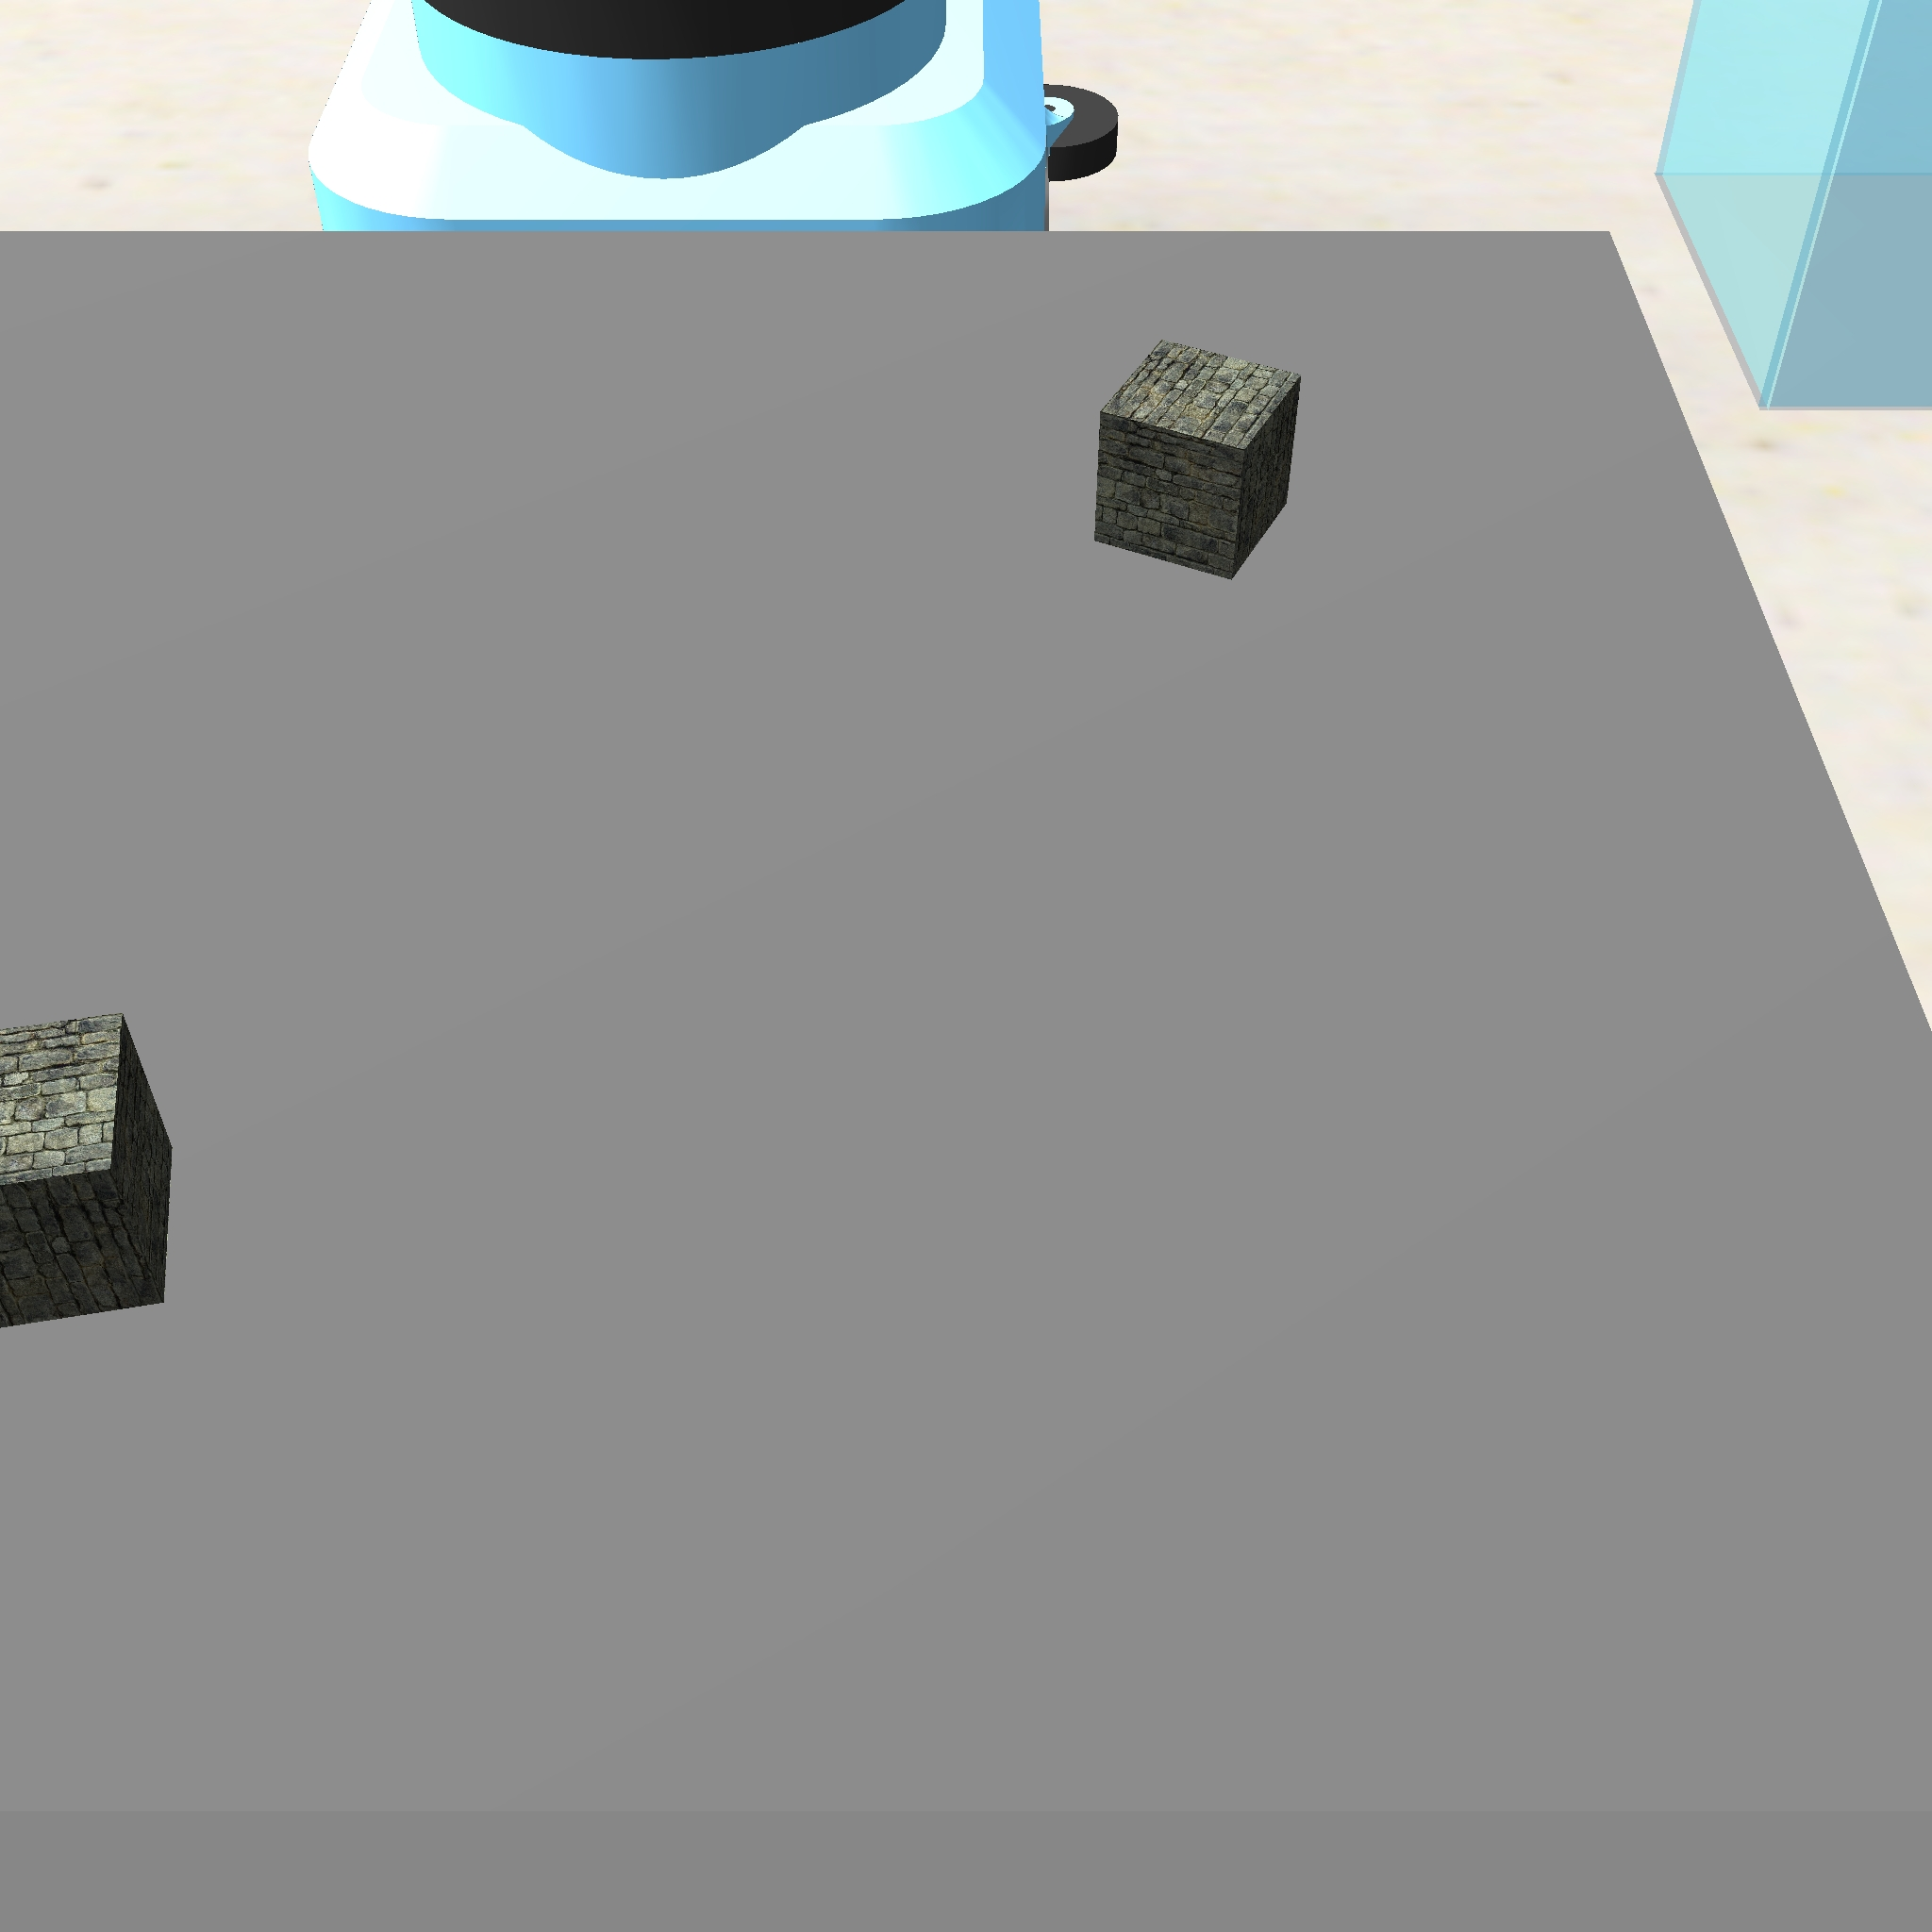cube: (0, 1008, 186, 1332), (1085, 333, 1304, 587)
